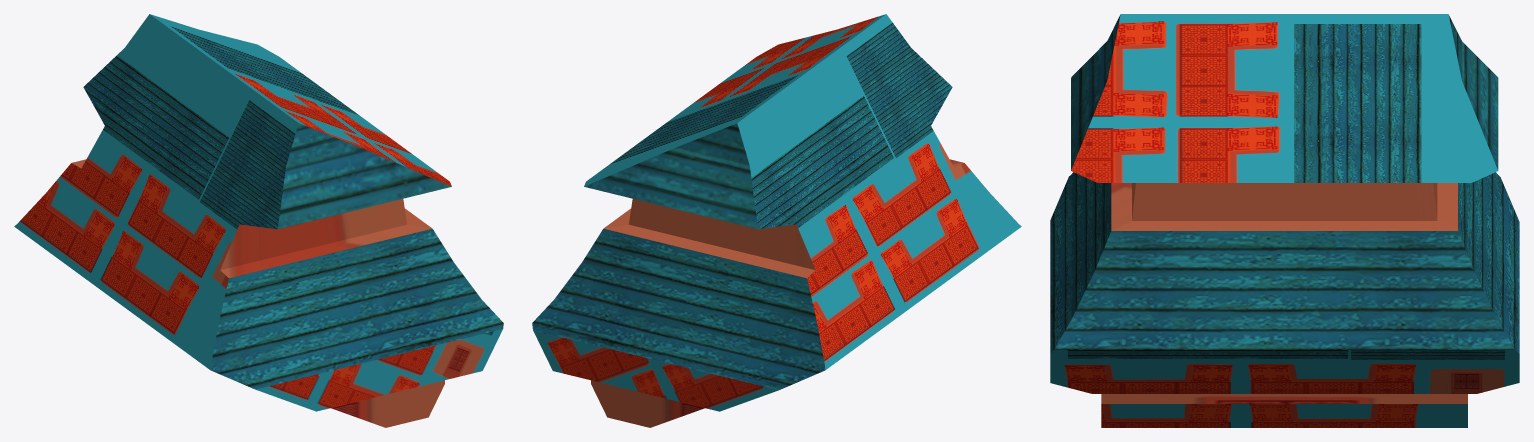
Rendered from borkertower03.FBX.
The picture shows the model from 3 angles, left to right: view 1: azimuth 30°, elevation 25°; view 2: azimuth 150°, elevation 25°; view 3: azimuth 270°, elevation 25°; orthographic projection. The views are drawn at different scales.
Visible parts, largest first — view 1: Box009; view 2: Box009; view 3: Box009.
Boxes of the visible parts, <box> form: Box009: <box>14,14,503,427</box>; Box009: <box>532,14,1021,427</box>; Box009: <box>1050,14,1519,427</box>.
Size of the model in its own units: 44.96 by 47.6 by 58.01.
